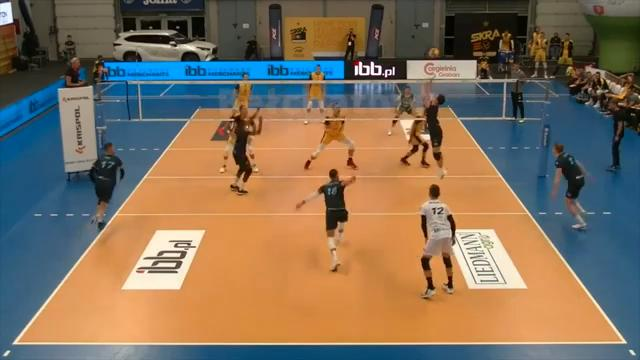alzata: (416, 72, 455, 182)
